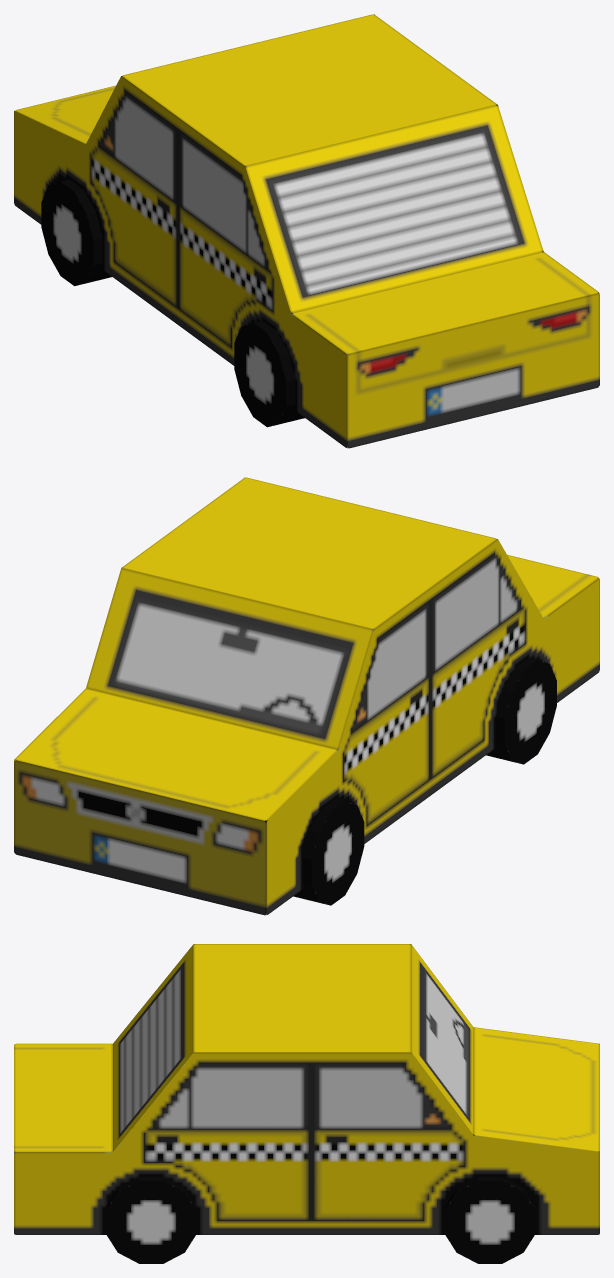
File: sedan.obj
The picture shows the model from 3 angles, top to bottom: view 1: azimuth 30°, elevation 25°; view 2: azimuth 150°, elevation 25°; view 3: azimuth 270°, elevation 25°; orthographic projection. The views are drawn at different scales.
Parts seen in each view (by area): view 1: body, wheel; view 2: body, wheel; view 3: body, wheel.
Boxes of the visible parts, <box> form: body: <box>14,14,599,448</box>; wheel: <box>41,179,304,427</box>; body: <box>14,477,599,915</box>; wheel: <box>265,658,556,905</box>; body: <box>14,944,599,1234</box>; wheel: <box>105,1134,535,1263</box>.
Bounding box in the file's own units: 1.88 × 1.56 × 4.
